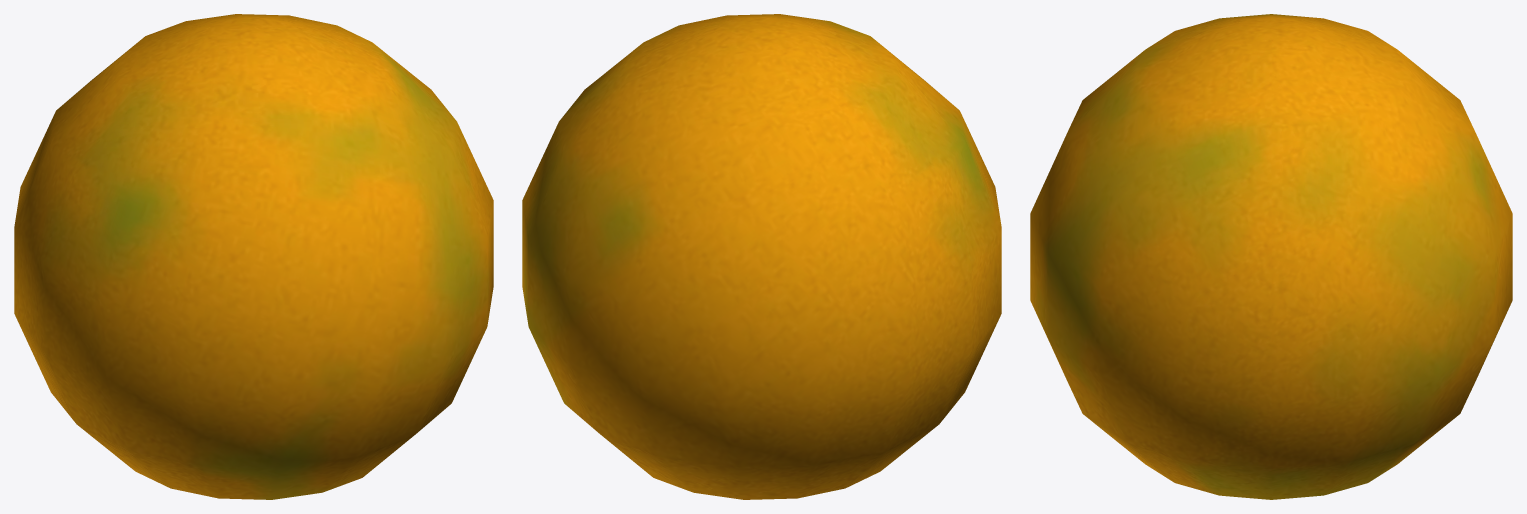
The model's file is orange-webp.glb.
The picture shows the model from 3 angles, left to right: view 1: azimuth 30°, elevation 25°; view 2: azimuth 150°, elevation 25°; view 3: azimuth 270°, elevation 25°; orthographic projection.
Visible parts, largest first — view 1: orange; view 2: orange; view 3: orange.
Part boxes in pixels (x1,y1,x2,y2): orange: [14, 14, 493, 499]; orange: [522, 14, 1001, 499]; orange: [1030, 14, 1512, 499].
Bounding box in the file's own units: 0.438 × 0.4466 × 0.438.
1 material, 1 textured.
